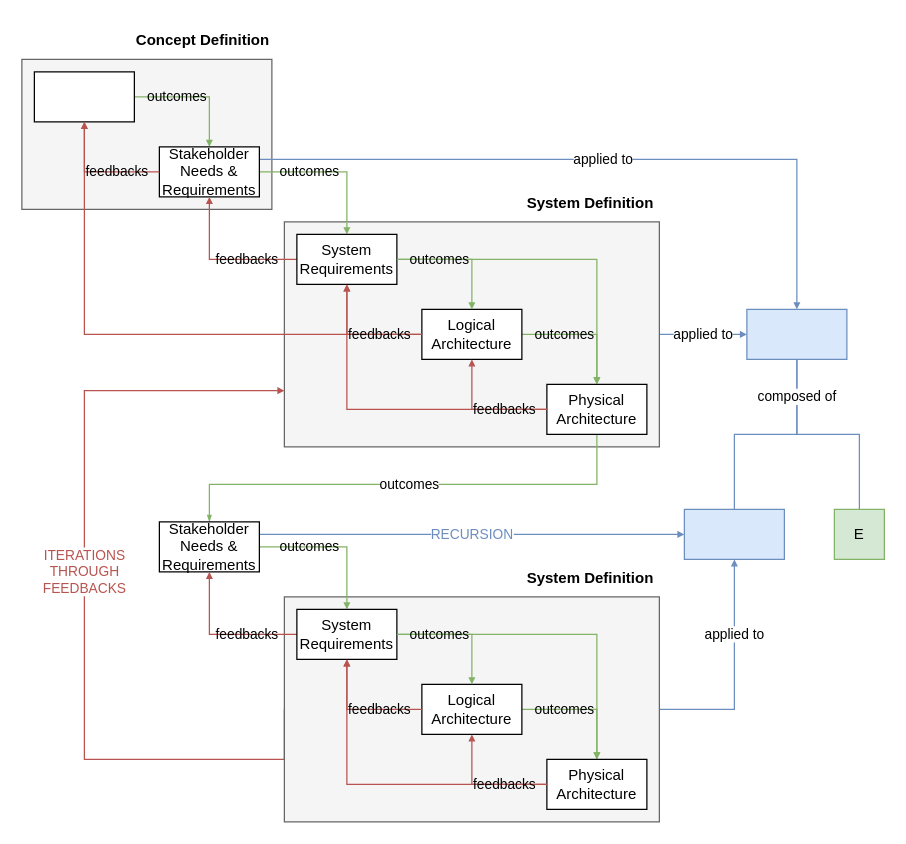
Image size: 906x844. Some labels were removed from this diagram. Each missing label, with the centre of its shape:
"Mission Analysis" goes at (83,96).
"S1" goes at (733,533).
"SoI" goes at (796,333).
